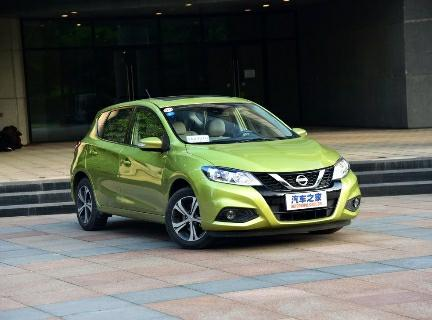car: (66, 91, 367, 251)
